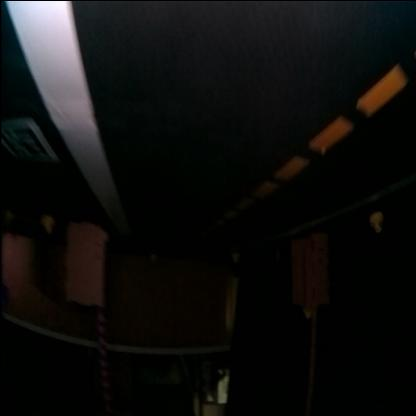Duckie: (368, 210, 384, 235), (38, 214, 56, 236)
QR code: (2, 119, 56, 164)
